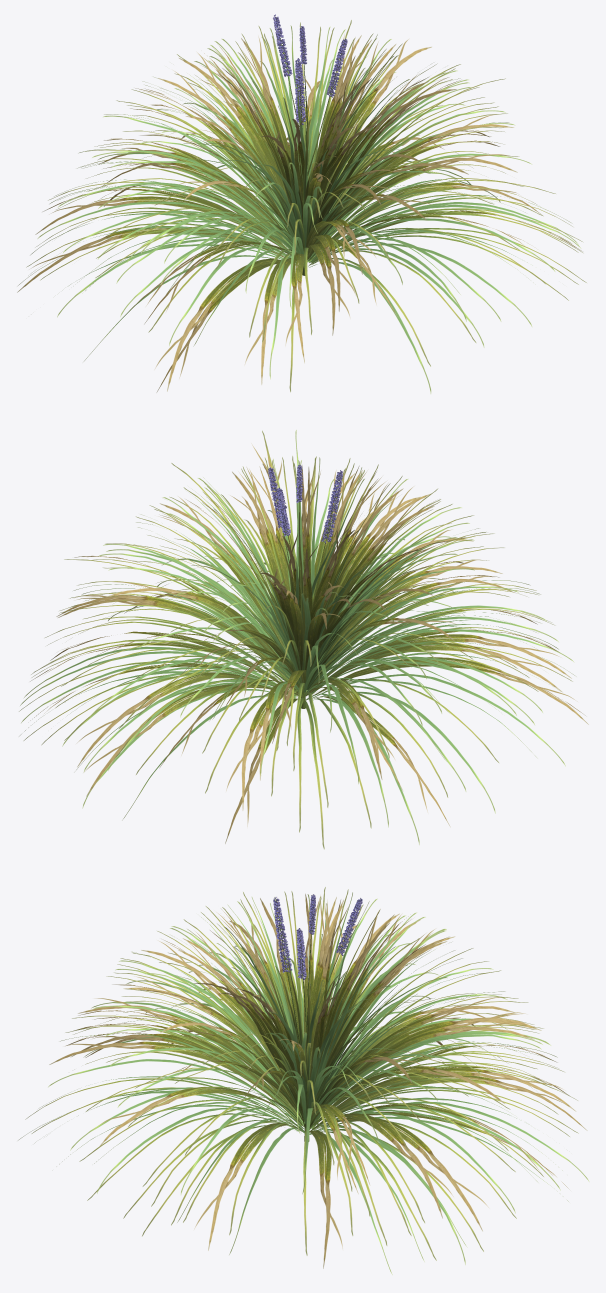
File: lilyturf-b.glb
3 renders of one model, top to bottom at view 1: azimuth 30°, elevation 25°; view 2: azimuth 150°, elevation 25°; view 3: azimuth 270°, elevation 25°, orthographic.
Visible parts, largest first — view 1: Deadleaf1_OphiopogonJaburan_Mat.003, Leaf2_OphiopogonJaburan_Mat.003, Leaf1_OphiopogonJaburan_Mat.003, Flower1_OphiopogonJaburan_Mat.001, Stem_OphiopogonJaburan_Mat.003; view 2: Deadleaf1_OphiopogonJaburan_Mat.003, Leaf2_OphiopogonJaburan_Mat.003, Leaf1_OphiopogonJaburan_Mat.003, Flower1_OphiopogonJaburan_Mat.001; view 3: Deadleaf1_OphiopogonJaburan_Mat.003, Leaf2_OphiopogonJaburan_Mat.003, Leaf1_OphiopogonJaburan_Mat.003, Flower1_OphiopogonJaburan_Mat.001, Stem_OphiopogonJaburan_Mat.003.
Boxes of the visible parts, left/top/right/bottom form: Deadleaf1_OphiopogonJaburan_Mat.003: left=17, top=35, right=582, bottom=392; Leaf2_OphiopogonJaburan_Mat.003: left=18, top=25, right=580, bottom=393; Leaf1_OphiopogonJaburan_Mat.003: left=26, top=20, right=586, bottom=392; Flower1_OphiopogonJaburan_Mat.001: left=273, top=14, right=347, bottom=124; Stem_OphiopogonJaburan_Mat.003: left=277, top=25, right=344, bottom=275; Deadleaf1_OphiopogonJaburan_Mat.003: left=30, top=445, right=588, bottom=843; Leaf2_OphiopogonJaburan_Mat.003: left=20, top=430, right=574, bottom=844; Leaf1_OphiopogonJaburan_Mat.003: left=19, top=430, right=572, bottom=849; Flower1_OphiopogonJaburan_Mat.001: left=268, top=464, right=343, bottom=543; Deadleaf1_OphiopogonJaburan_Mat.003: left=49, top=894, right=587, bottom=1268; Leaf2_OphiopogonJaburan_Mat.003: left=18, top=892, right=589, bottom=1274; Leaf1_OphiopogonJaburan_Mat.003: left=25, top=887, right=578, bottom=1260; Flower1_OphiopogonJaburan_Mat.001: left=273, top=894, right=362, bottom=979; Stem_OphiopogonJaburan_Mat.003: left=276, top=899, right=357, bottom=1141.
Size of the model in its own units: 1.19 by 0.6293 by 1.2.
5 materials, 5 textured.
